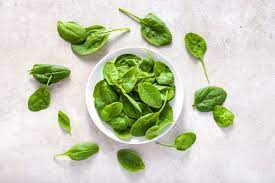spinach: (103, 62, 167, 124), (45, 10, 114, 51), (19, 59, 66, 106), (196, 84, 236, 124)
